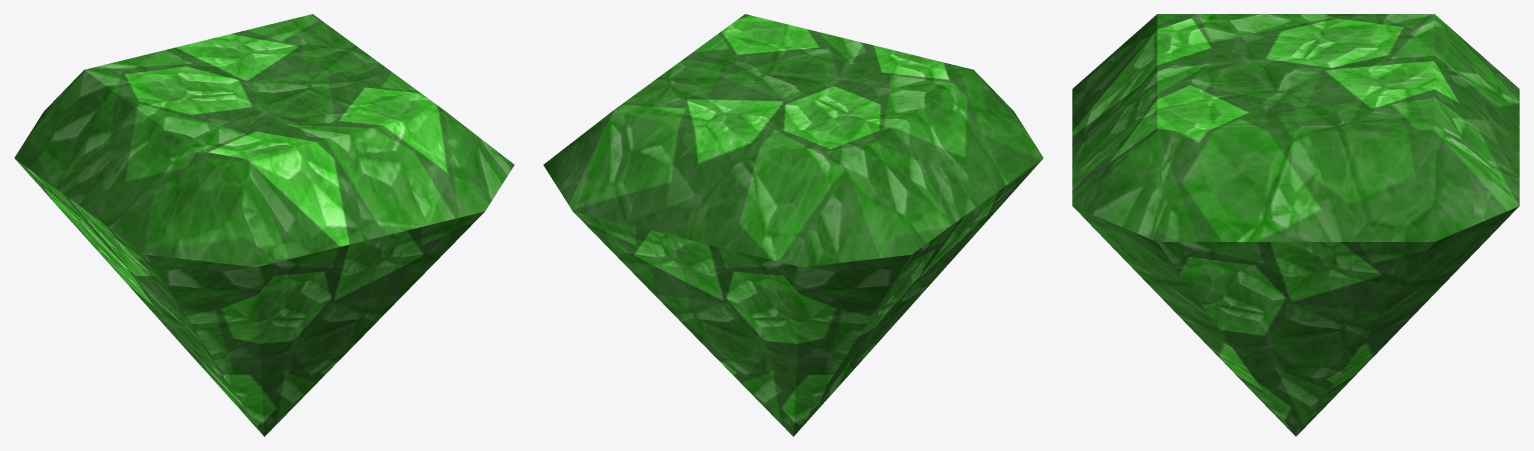
Rendered from p2_gem_green.fbx.
3 views of the same model, side by side, from view 1: azimuth 30°, elevation 25°; view 2: azimuth 150°, elevation 25°; view 3: azimuth 270°, elevation 25° (orthographic). The views are drawn at different scales.
Parts seen in each view (by area): view 1: mesh; view 2: mesh; view 3: mesh.
Boxes of the visible parts, x1,y1,x2,y2 form: mesh: [14, 14, 514, 436]; mesh: [543, 14, 1043, 436]; mesh: [1072, 14, 1519, 436].
Bounding box in the file's own units: 39.86 × 35.84 × 39.86.
